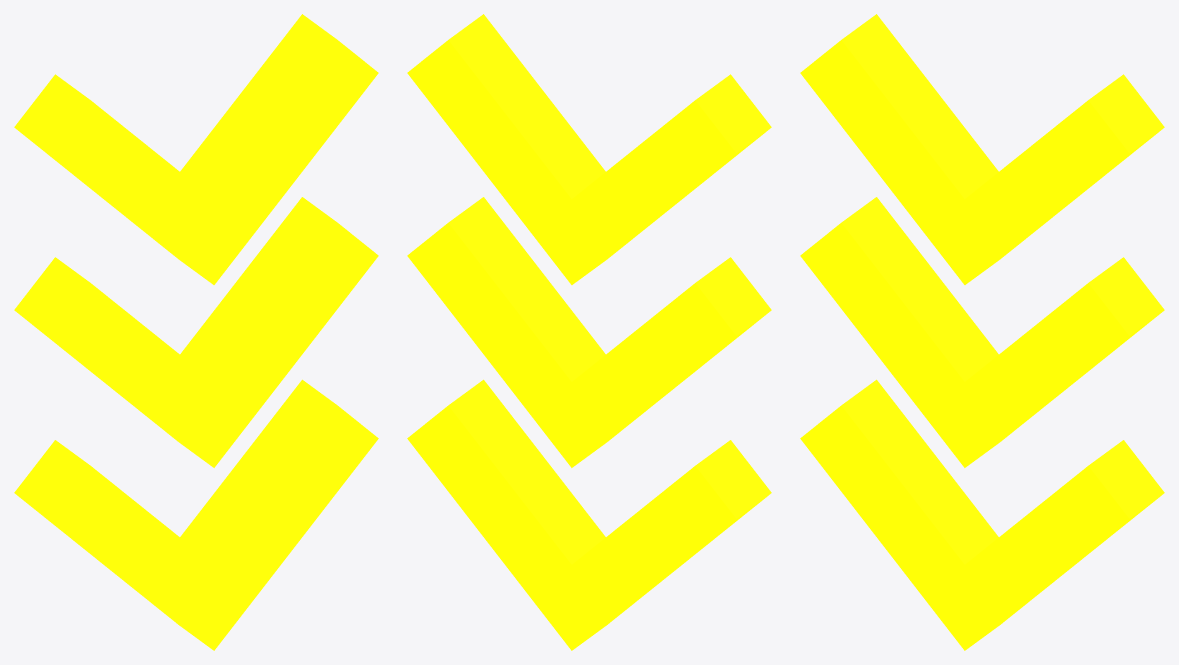
Rendered from AnimatedIndicatorArrowYellow.glb.
3 renders of one model, left to right at view 1: azimuth 30°, elevation 25°; view 2: azimuth 150°, elevation 25°; view 3: azimuth 330°, elevation 25°, orthographic.
Visible parts, largest first — view 1: Plane; view 2: Plane; view 3: Plane.
Part boxes in pixels (x1=…): Plane: x1=14, y1=14, x2=378, y2=650; Plane: x1=407, y1=14, x2=771, y2=650; Plane: x1=800, y1=14, x2=1164, y2=650.
Bounding box in the file's own units: 0.3394 × 0.5721 × 0.0632.
